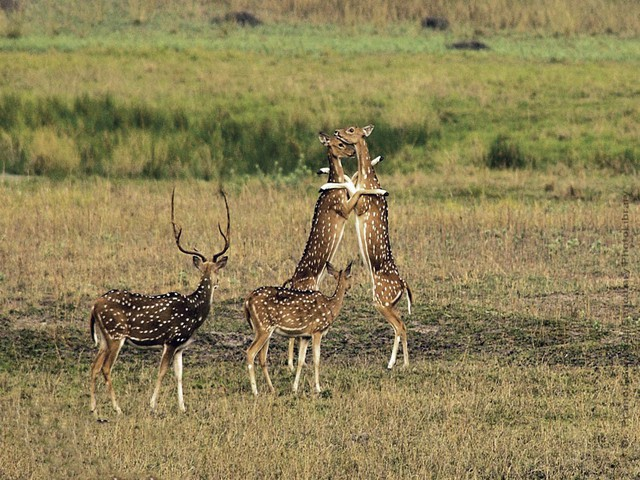deer: (80, 180, 234, 423), (337, 119, 426, 366), (244, 262, 357, 391), (307, 119, 349, 252)
